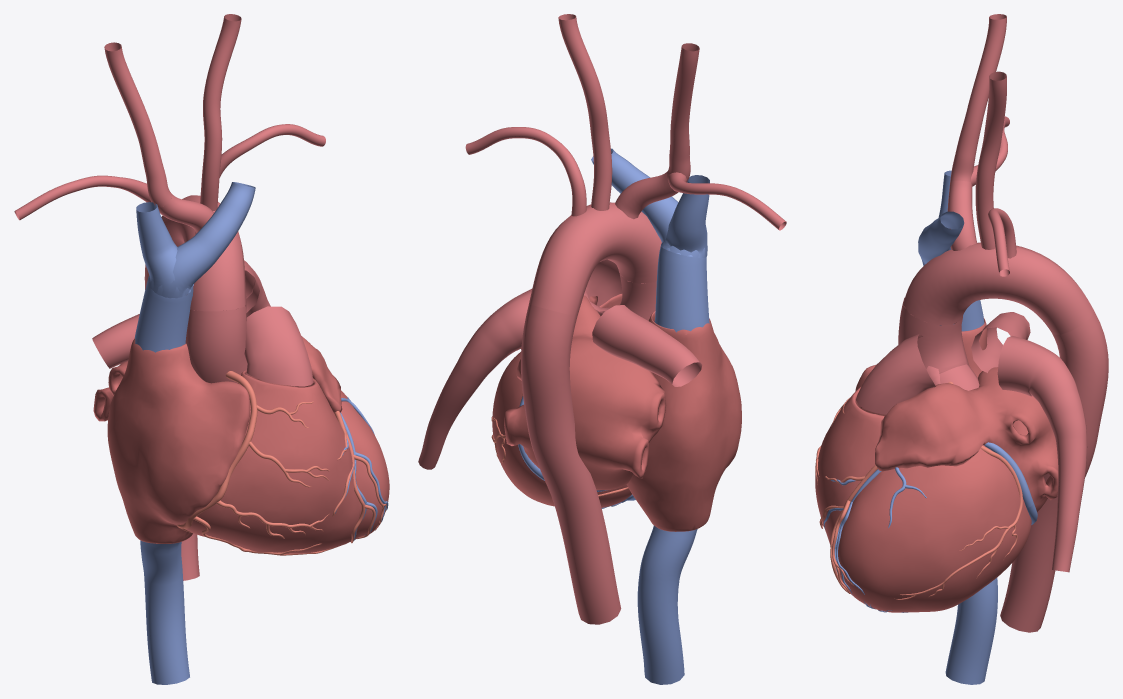
Rendered from cardiovascular.glb.
3 views of the same model, side by side, from view 1: azimuth 30°, elevation 25°; view 2: azimuth 150°, elevation 25°; view 3: azimuth 270°, elevation 25° (orthographic). The views are drawn at different scales.
Parts seen in each view (by area): view 1: right-atrium, right-ventricle, inferior-vena-cava, pulmonary-trunk, l-brachiocephalic-vein, ascending-aorta, l-common-carotid, aortic-arch, right-coronary-artery, r-common-carotid, superior-vena-cava, left-ventricle (+10 smaller); view 2: thoracic-aorta, right-atrium, left-atrium, aortic-arch, inferior-vena-cava, l-pulmonary-artery, r-pulmonary-artery, superior-vena-cava, l-common-carotid, left-ventricle, r-common-carotid, r-brachiocephalic-vein (+6 smaller); view 3: left-ventricle, left-atrium, aortic-arch, thoracic-aorta, l-pulmonary-artery, right-ventricle, inferior-vena-cava, pulmonary-trunk, ascending-aorta, r-common-carotid, l-common-carotid, r-pulmonary-artery (+8 smaller).
Boxes of the visible parts, box(x1,y1,x2,y2) form: right-atrium: box(107, 338, 250, 543); right-ventricle: box(180, 370, 359, 553); inferior-vena-cava: box(140, 540, 189, 684); pulmonary-trunk: box(244, 306, 313, 386); l-brachiocephalic-vein: box(148, 182, 255, 298); ascending-aorta: box(185, 304, 248, 383); l-common-carotid: box(200, 14, 241, 210); aortic-arch: box(161, 195, 246, 311); right-coronary-artery: box(176, 371, 336, 555); r-common-carotid: box(104, 42, 171, 207); superior-vena-cava: box(134, 277, 193, 352); left-ventricle: box(341, 390, 389, 539); thoracic-aorta: box(521, 304, 621, 624); right-atrium: box(626, 311, 741, 531); left-atrium: box(504, 295, 665, 490); aortic-arch: box(529, 202, 661, 316); inferior-vena-cava: box(637, 525, 697, 684); l-pulmonary-artery: box(418, 289, 532, 469); r-pulmonary-artery: box(592, 305, 702, 386); superior-vena-cava: box(654, 246, 709, 332); l-common-carotid: box(558, 14, 612, 210); left-ventricle: box(492, 351, 631, 507); r-common-carotid: box(666, 43, 699, 182); r-brachiocephalic-vein: box(661, 175, 709, 257); left-ventricle: box(836, 445, 1031, 612); left-atrium: box(875, 367, 1058, 512); aortic-arch: box(903, 242, 1093, 334); thoracic-aorta: box(1000, 311, 1108, 632); l-pulmonary-artery: box(997, 336, 1087, 572); right-ventricle: box(815, 386, 885, 544); inferior-vena-cava: box(945, 577, 997, 684); pulmonary-trunk: box(856, 333, 940, 414); ascending-aorta: box(898, 297, 979, 390); r-common-carotid: box(950, 14, 1006, 181); l-common-carotid: box(975, 71, 1006, 249); r-pulmonary-artery: box(971, 312, 1030, 372).
Size of the model in its own units: 1.7 by 3.16 by 1.31.
